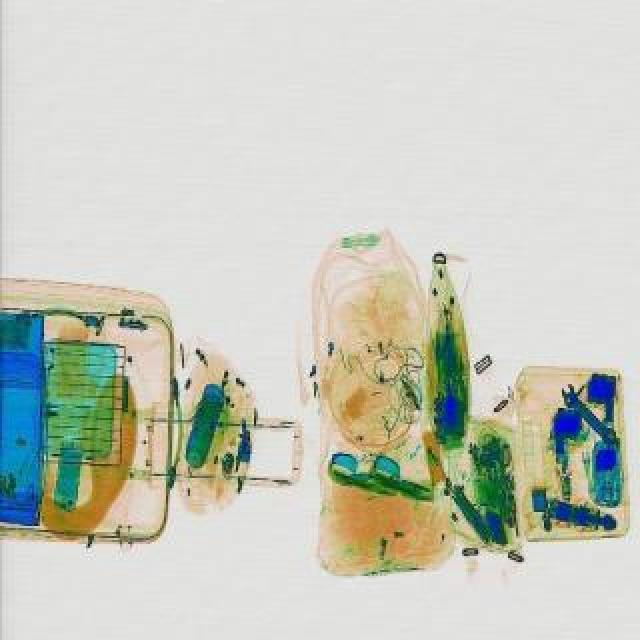scissors: (556, 378, 620, 444), (562, 392, 618, 450)
